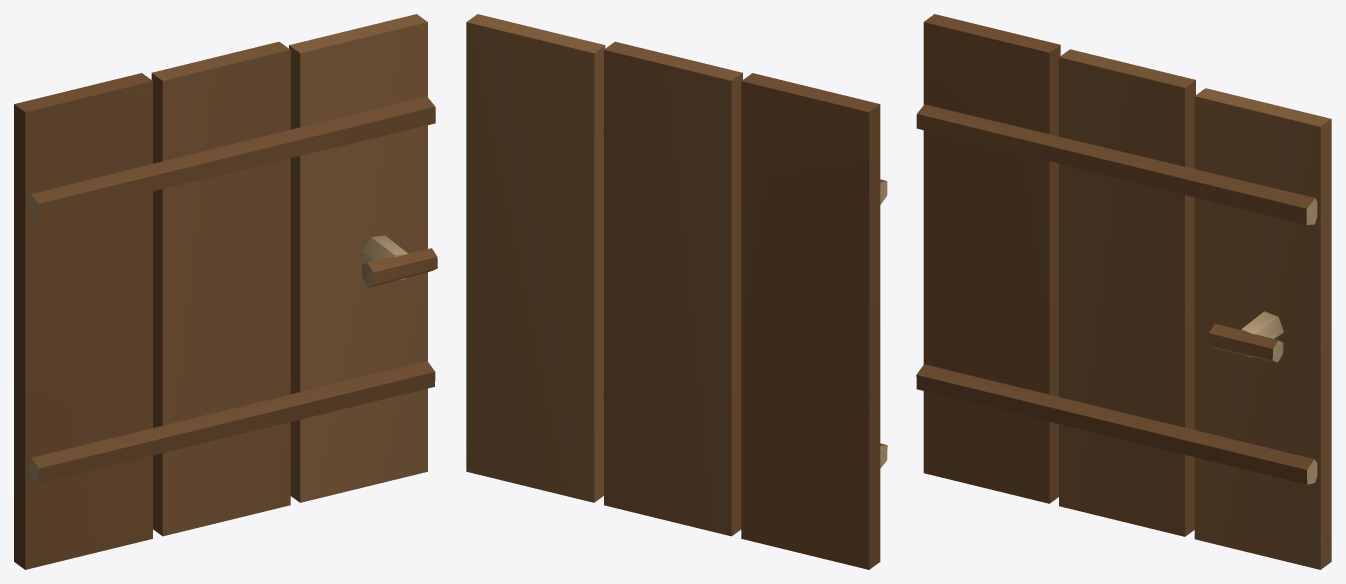
The model's file is building-betterStove-carve-door-low.glb.
The picture shows the model from 3 angles, left to right: view 1: azimuth 30°, elevation 25°; view 2: azimuth 150°, elevation 25°; view 3: azimuth 330°, elevation 25°; orthographic projection.
Visible parts, largest first — view 1: 0_door; view 2: 0_door; view 3: 0_door.
Boxes of the visible parts, x1=… form: 0_door: x1=14, y1=14, x2=437, y2=569; 0_door: x1=466, y1=14, x2=887, y2=569; 0_door: x1=916, y1=14, x2=1331, y2=569.
Bounding box in the file's own units: 0.5 × 0.5429 × 0.0883.
